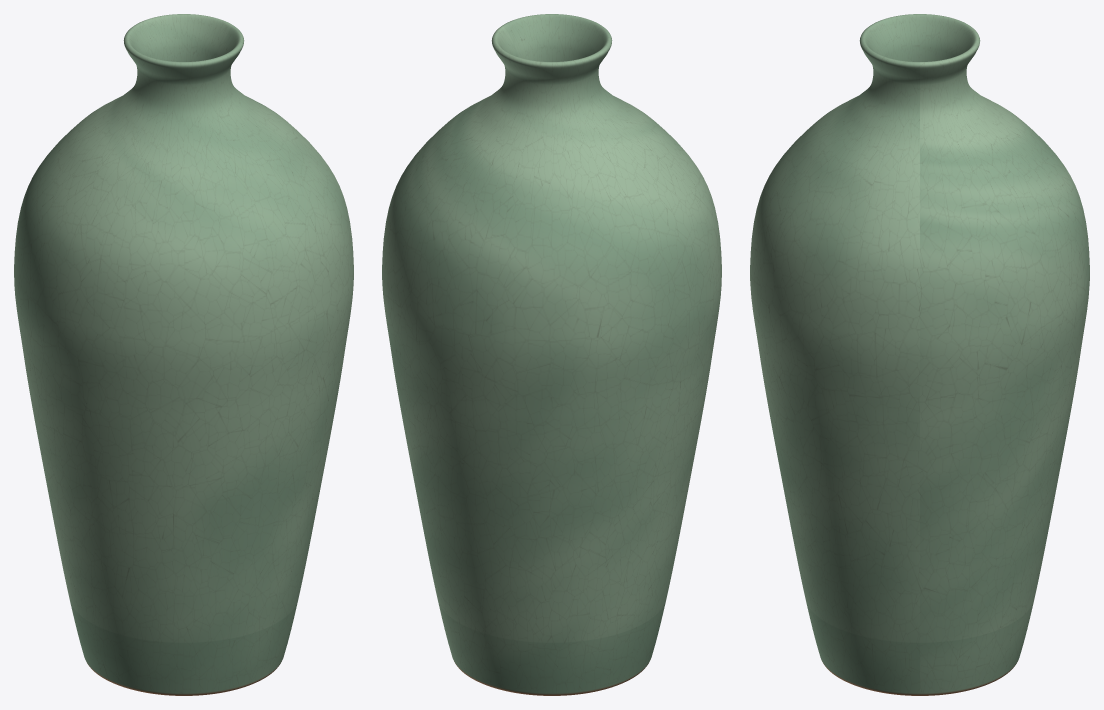
The model's file is celadon-vase.glb.
The picture shows the model from 3 angles, left to right: view 1: azimuth 30°, elevation 25°; view 2: azimuth 150°, elevation 25°; view 3: azimuth 270°, elevation 25°; orthographic projection.
Parts seen in each view (by area): view 1: vase; view 2: vase; view 3: vase.
Boxes of the visible parts, x1,y1,x2,y2 form: vase: (14, 14, 353, 695); vase: (382, 14, 721, 695); vase: (750, 14, 1089, 695).
Bounding box in the file's own units: 0.1516 × 0.3036 × 0.1516.
1 material, 1 textured.
